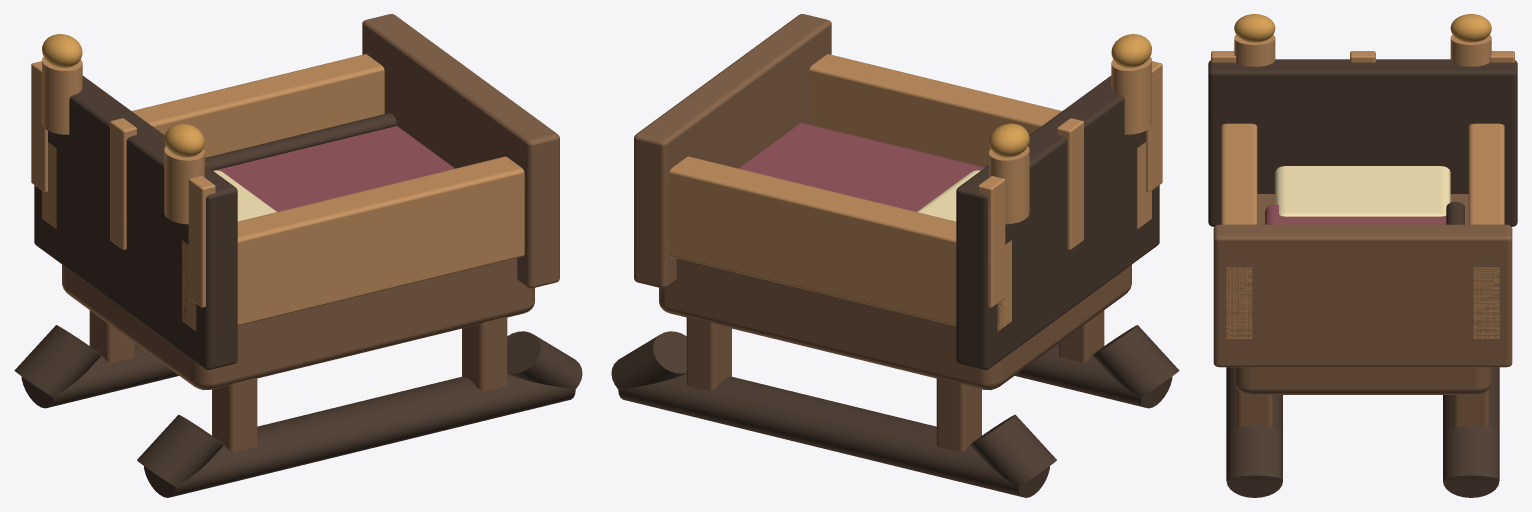
The model's file is detail_cradle.glb.
3 views of the same model, side by side, from view 1: azimuth 30°, elevation 25°; view 2: azimuth 150°, elevation 25°; view 3: azimuth 270°, elevation 25° (orthographic). The views are drawn at different scales.
Parts seen in each view (by area): view 1: wood, metal, stone, cloth; view 2: wood, metal, stone, cloth; view 3: wood, stone, metal, cloth.
Boxes of the visible parts, left/top/right/bottom form: wood: left=31, top=14, right=559, bottom=390; metal: left=42, top=54, right=524, bottom=331; stone: left=14, top=310, right=582, bottom=497; cloth: left=205, top=113, right=454, bottom=221; wood: left=634, top=14, right=1162, bottom=390; metal: left=669, top=54, right=1151, bottom=330; stone: left=611, top=310, right=1179, bottom=497; cloth: left=739, top=123, right=984, bottom=221; wood: left=1208, top=14, right=1517, bottom=394; stone: left=1226, top=367, right=1499, bottom=497; metal: left=1221, top=123, right=1504, bottom=338; cloth: left=1265, top=166, right=1464, bottom=224.
Size of the model in its own units: 1 by 0.8 by 0.7.
